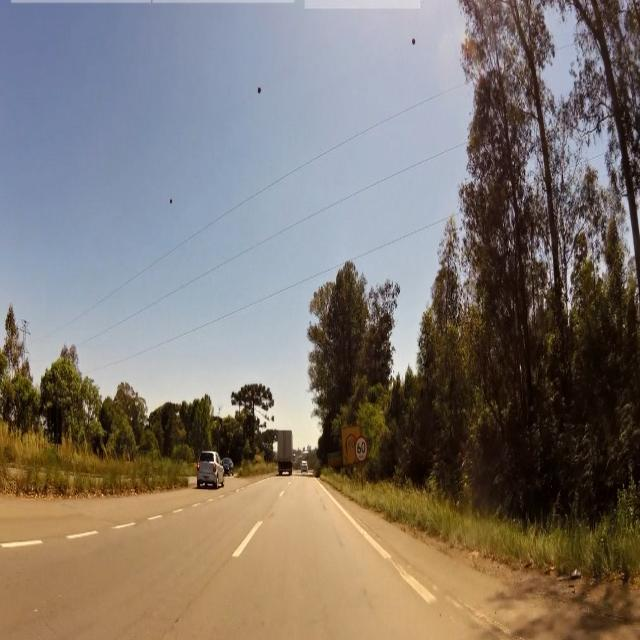R-19: (355, 437, 367, 462)
